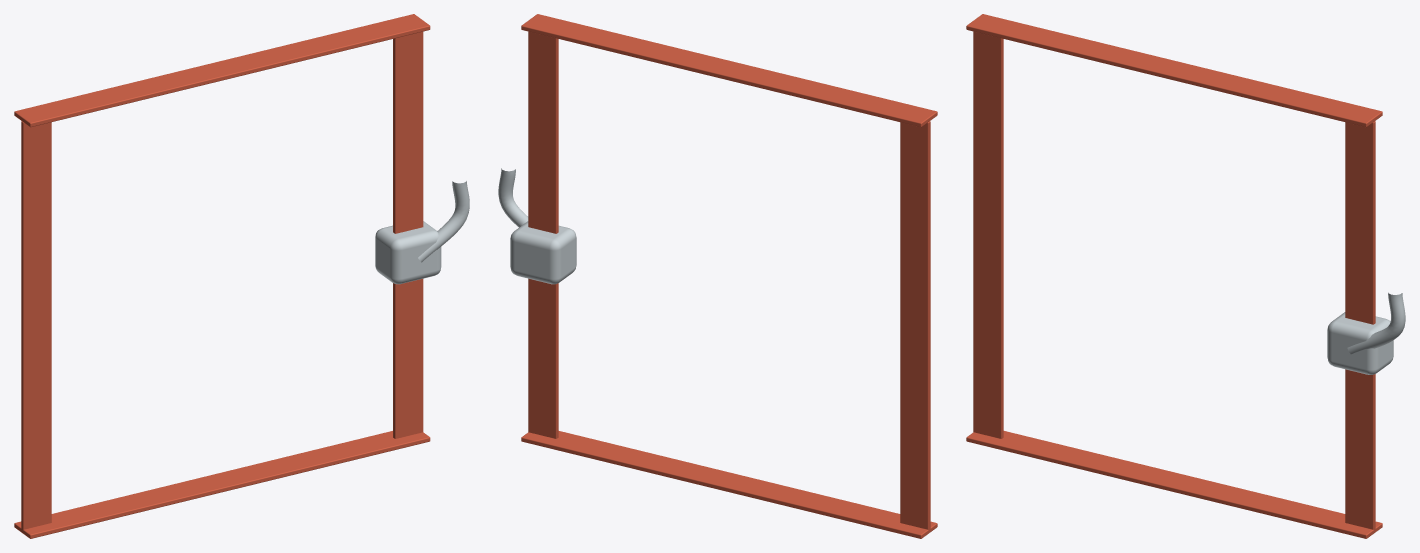
Rendered from beekeeping-and-honey-farm-ratchet-hive-strap-e5b021e8__30712.glb.
3 views of the same model, side by side, from view 1: azimuth 30°, elevation 25°; view 2: azimuth 150°, elevation 25°; view 3: azimuth 330°, elevation 25° (orthographic).
Visible parts, largest first — view 1: ratchet-hive-strap; view 2: ratchet-hive-strap; view 3: ratchet-hive-strap.
Part boxes in pixels (x1,y1,x2,y2): ratchet-hive-strap: [14, 14, 469, 538]; ratchet-hive-strap: [498, 14, 937, 538]; ratchet-hive-strap: [966, 14, 1405, 538].
Bounding box in the file's own units: 0.6129 × 0.556 × 0.0565.
